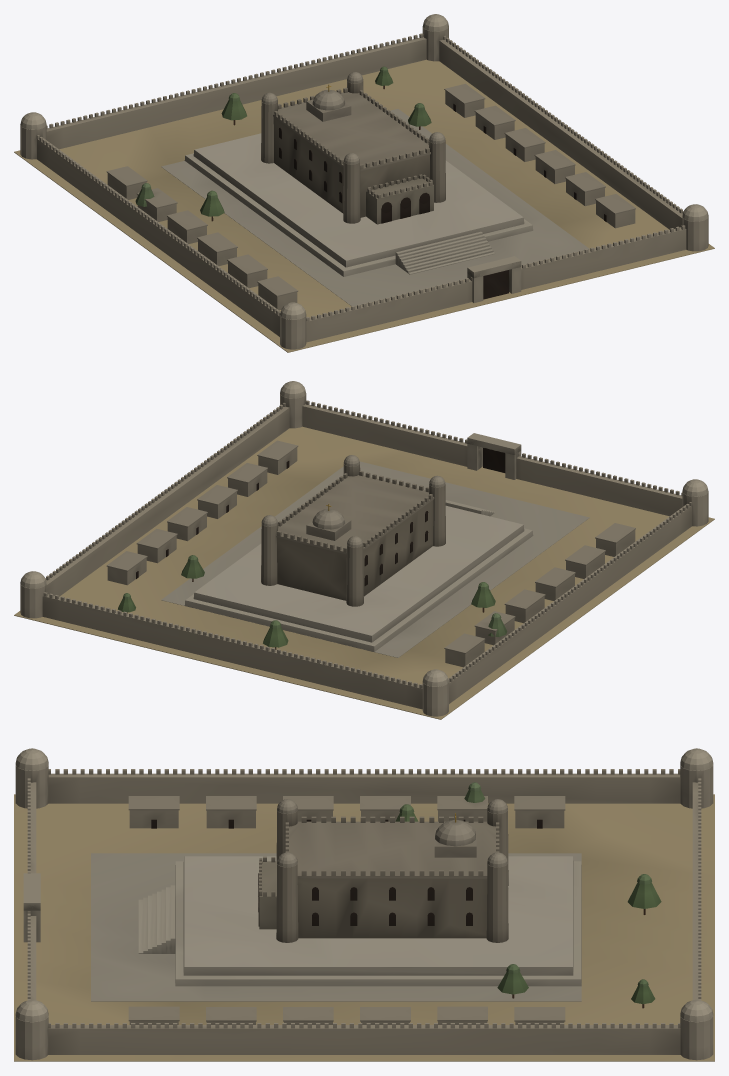
The model's file is mary-of-zion.glb.
3 views of the same model, one above another, from view 1: azimuth 30°, elevation 25°; view 2: azimuth 150°, elevation 25°; view 3: azimuth 270°, elevation 25° (orthographic). The views are drawn at different scales.
Visible parts, largest first — view 1: p0_podium, p1_precinct, p2_church, p3_roofs; view 2: p0_podium, p1_precinct, p2_church, p3_roofs; view 3: p0_podium, p1_precinct, p2_church, p3_roofs.
Part boxes in pixels (left/top/right/bottom): p0_podium: left=14, top=59, right=714, bottom=352; p1_precinct: left=20, top=14, right=708, bottom=349; p2_church: left=261, top=80, right=445, bottom=224; p3_roofs: left=135, top=66, right=445, bottom=221; p0_podium: left=14, top=426, right=714, bottom=719; p1_precinct: left=20, top=381, right=708, bottom=716; p2_church: left=261, top=463, right=445, bottom=606; p3_roofs: left=118, top=455, right=507, bottom=649; p0_podium: left=14, top=794, right=714, bottom=1061; p1_precinct: left=15, top=748, right=713, bottom=1060; p2_church: left=258, top=810, right=508, bottom=942; p3_roofs: left=277, top=782, right=661, bottom=1008.
Size of the model in its own units: 90 by 18.14 by 100.
